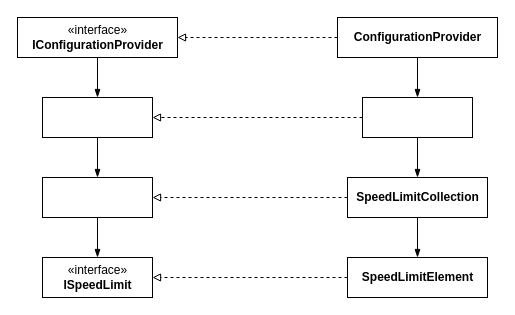
Image size: 515x315. Some labels were removed from this diagram. Each missing label, with the centre of its shape:
TrafficCode: point 417,117
«interface» ISpeedLimits: point 97,197
«interface» ITrafficCode: point 97,117
